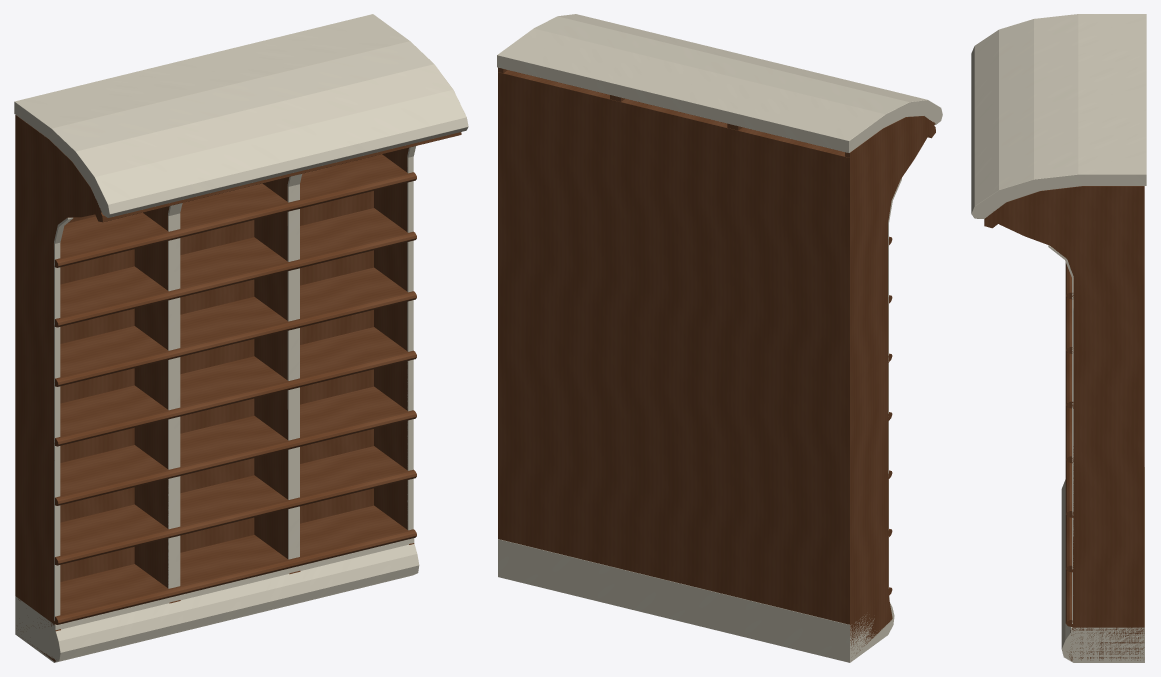
File: AST-LIB-STR-001.glb
3 renders of one model, left to right at view 1: azimuth 30°, elevation 25°; view 2: azimuth 150°, elevation 25°; view 3: azimuth 270°, elevation 25°, orthographic. The views are drawn at different scales.
Visible parts, largest first — view 1: ASTRAEA_library_warm_walnut, ASTRAEA_library_ivory_enamel; view 2: ASTRAEA_library_warm_walnut, ASTRAEA_library_ivory_enamel; view 3: ASTRAEA_library_warm_walnut, ASTRAEA_library_ivory_enamel.
Part boxes in pixels (left/top/right/bottom): ASTRAEA_library_warm_walnut: left=15, top=115, right=461, bottom=661; ASTRAEA_library_ivory_enamel: left=14, top=14, right=468, bottom=662; ASTRAEA_library_warm_walnut: left=498, top=67, right=935, bottom=653; ASTRAEA_library_ivory_enamel: left=497, top=14, right=942, bottom=662; ASTRAEA_library_warm_walnut: left=984, top=186, right=1144, bottom=660; ASTRAEA_library_ivory_enamel: left=971, top=14, right=1146, bottom=662.
Size of the model in its own units: 2.4 by 3.4 by 1.1.
2 materials, 2 textured.
